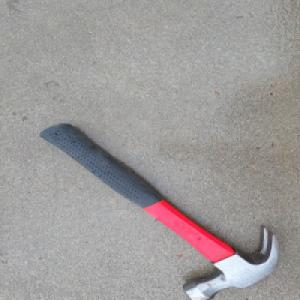Hammer: (37, 122, 276, 282)
